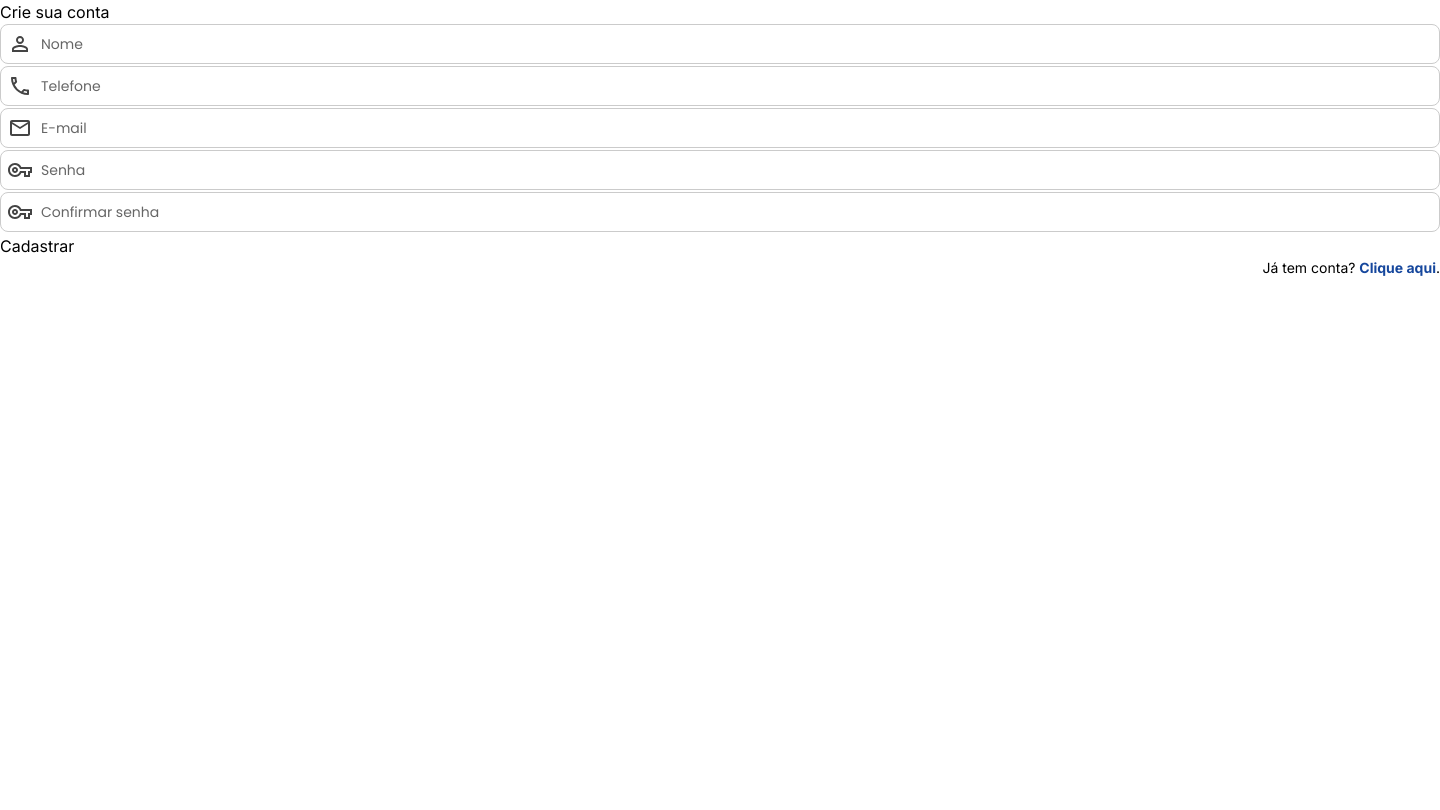
Test case: Register Component › should validate invalid phone format
Type "11 9999" into the field with placeholder "Telefone" at (720, 86), box [0,66,1439,106]
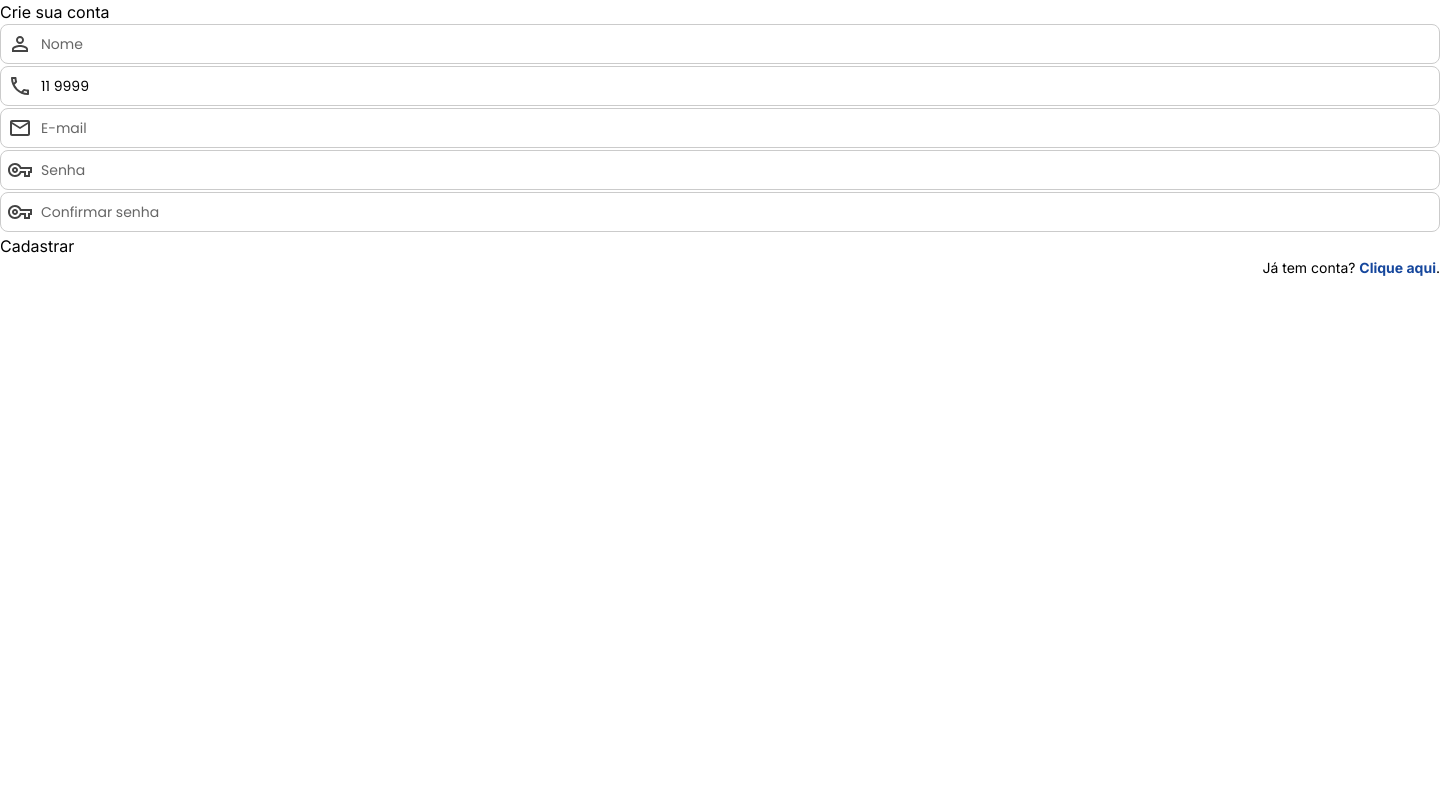
Click the button "Cadastrar" at (37, 246), box [0,234,74,258]
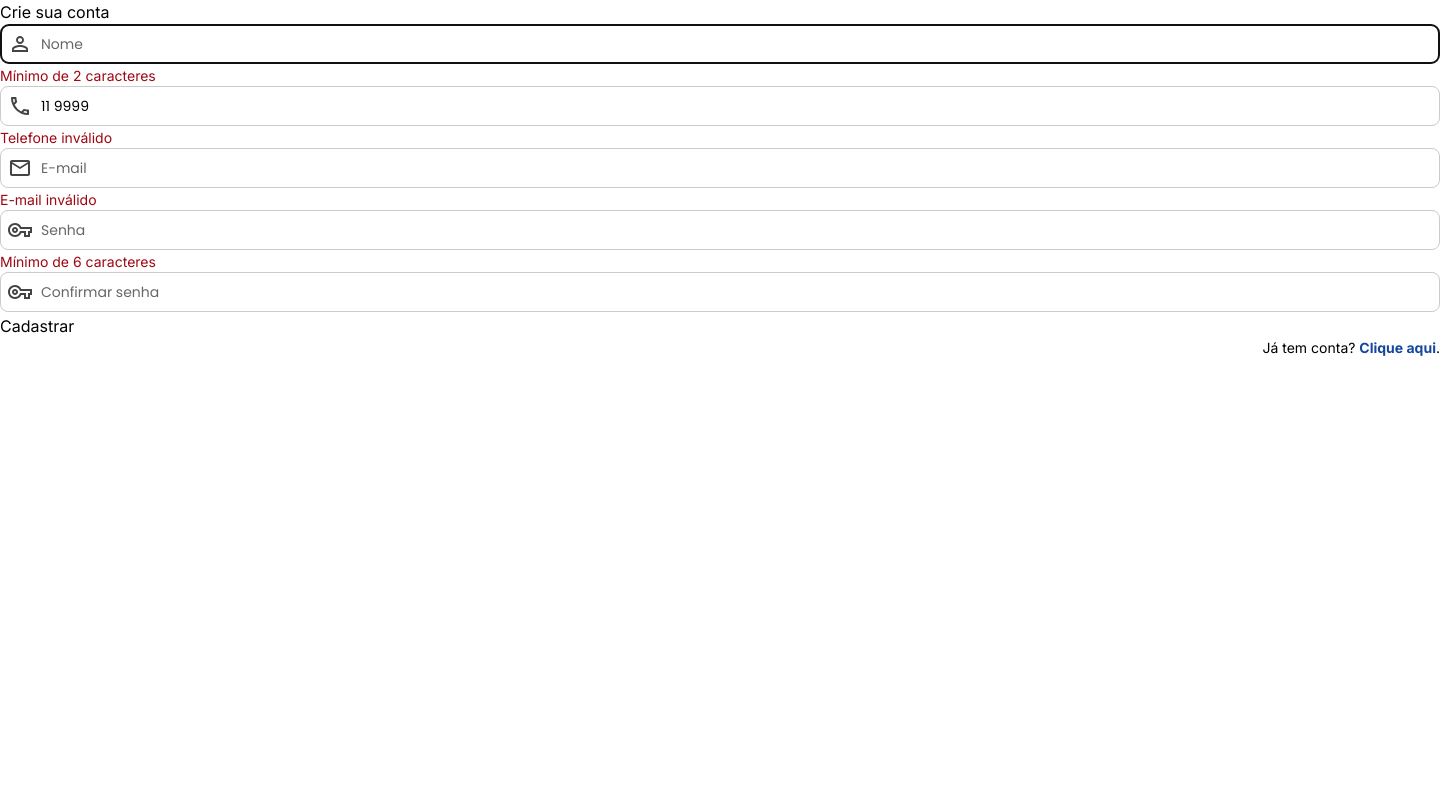
Expected: the text "Telefone inválido" is shown, [0,129,112,146]
